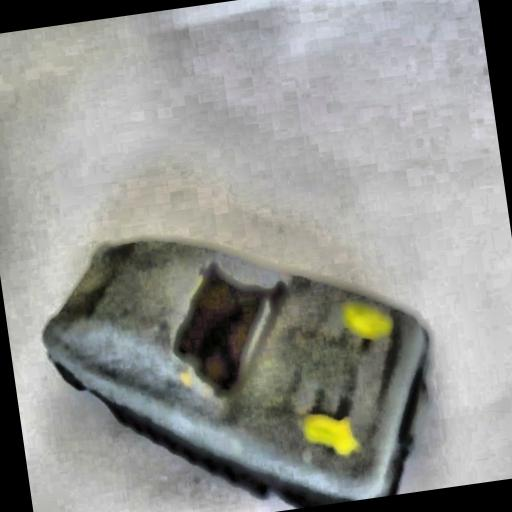normal_car: (24, 189, 451, 512)
